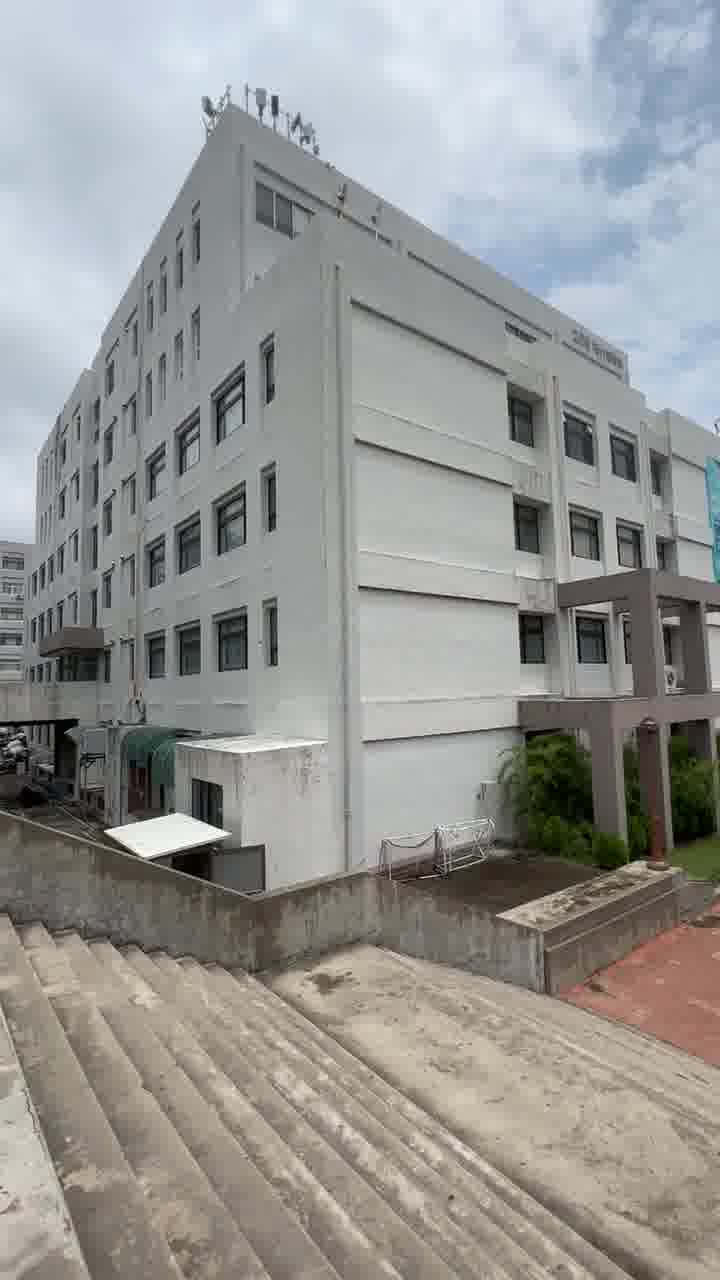medium: (34, 82, 720, 812)
